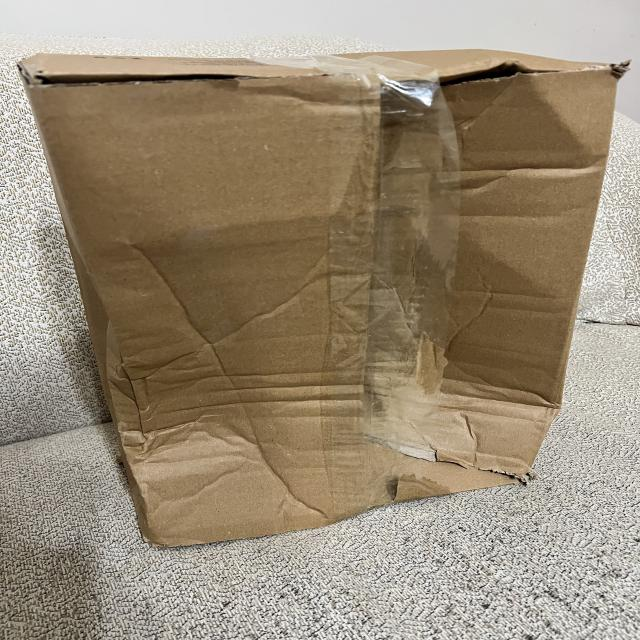damaged: (23, 52, 633, 551), (353, 59, 593, 206), (356, 362, 556, 503), (89, 336, 179, 476)
